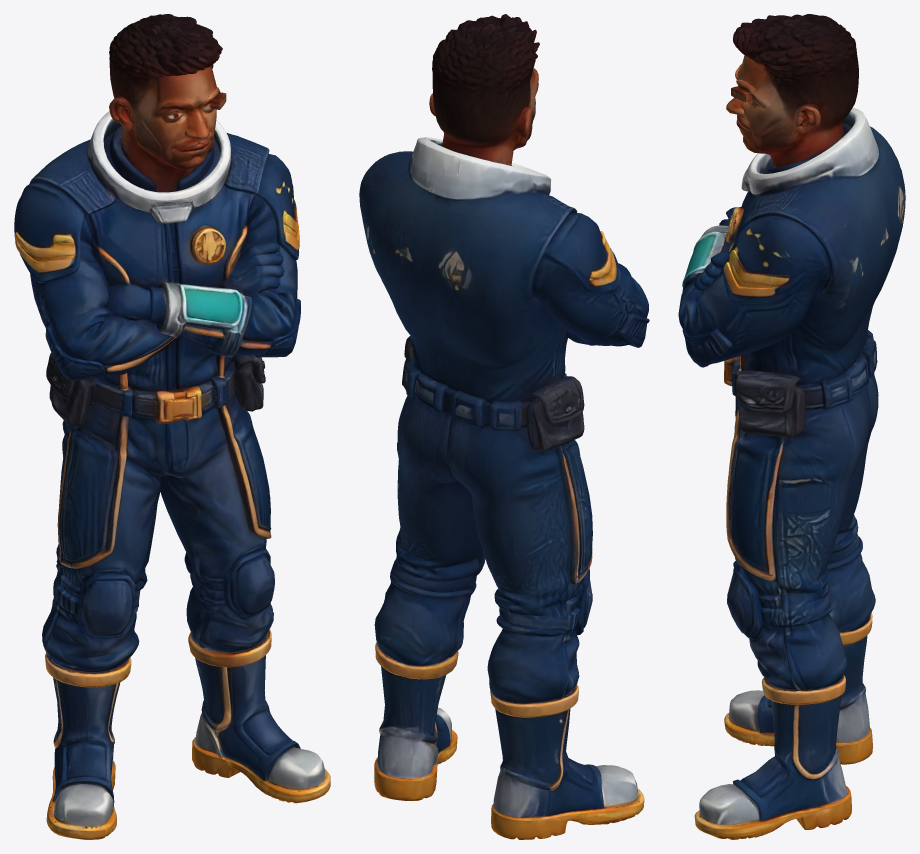
File: avatar-kael-starfarer.glb
The picture shows the model from 3 angles, left to right: view 1: azimuth 30°, elevation 25°; view 2: azimuth 150°, elevation 25°; view 3: azimuth 270°, elevation 25°; orthographic projection.
Size of the model in its own units: 0.6755 by 1.9 by 0.5118.
Materials: 1 (1 with a texture image).
